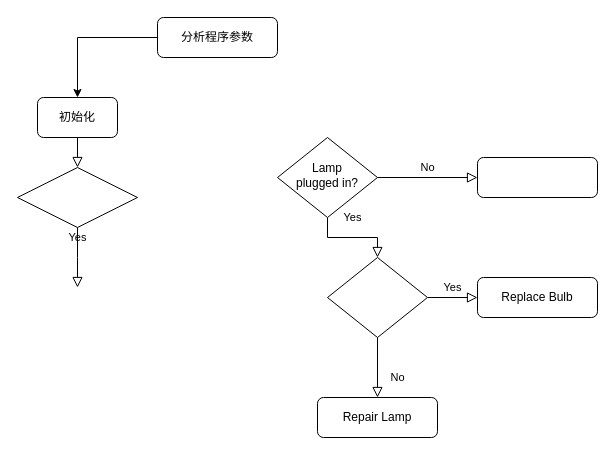
The diagram is 615 pixels wide and 455 high, and some of its shapes have lost their labels. Here are the shapes that lost their labels. From the top down, the box of each, then its label:
(16, 166, 138, 228): website文件夹下是否存在.git
(476, 156, 598, 198): Plug in lamp
(326, 256, 428, 338): Bulb burned out?
